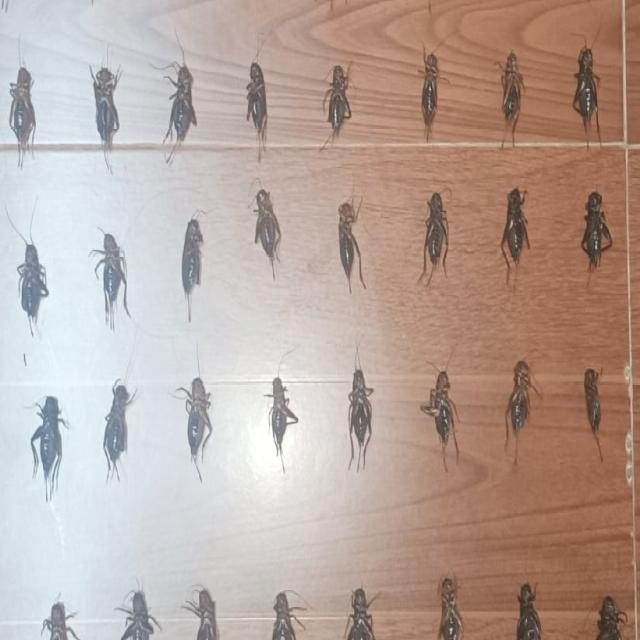egg: (30, 395, 67, 500), (91, 232, 129, 329), (422, 371, 458, 458), (102, 380, 132, 478), (165, 65, 196, 157), (184, 377, 213, 473), (17, 243, 48, 332), (500, 187, 529, 278), (9, 66, 36, 163), (506, 360, 533, 457), (581, 191, 612, 271), (254, 188, 281, 278), (348, 367, 372, 467), (572, 46, 598, 138), (422, 191, 449, 279), (270, 378, 299, 458), (94, 66, 119, 156), (182, 219, 203, 318), (121, 589, 158, 640), (326, 63, 351, 137), (246, 61, 268, 145), (502, 51, 522, 140), (186, 588, 219, 640), (437, 575, 463, 640), (272, 590, 304, 640), (338, 202, 357, 283), (515, 583, 542, 640), (345, 588, 374, 640), (584, 368, 601, 449), (593, 596, 624, 640), (422, 54, 438, 133), (44, 602, 72, 640)
